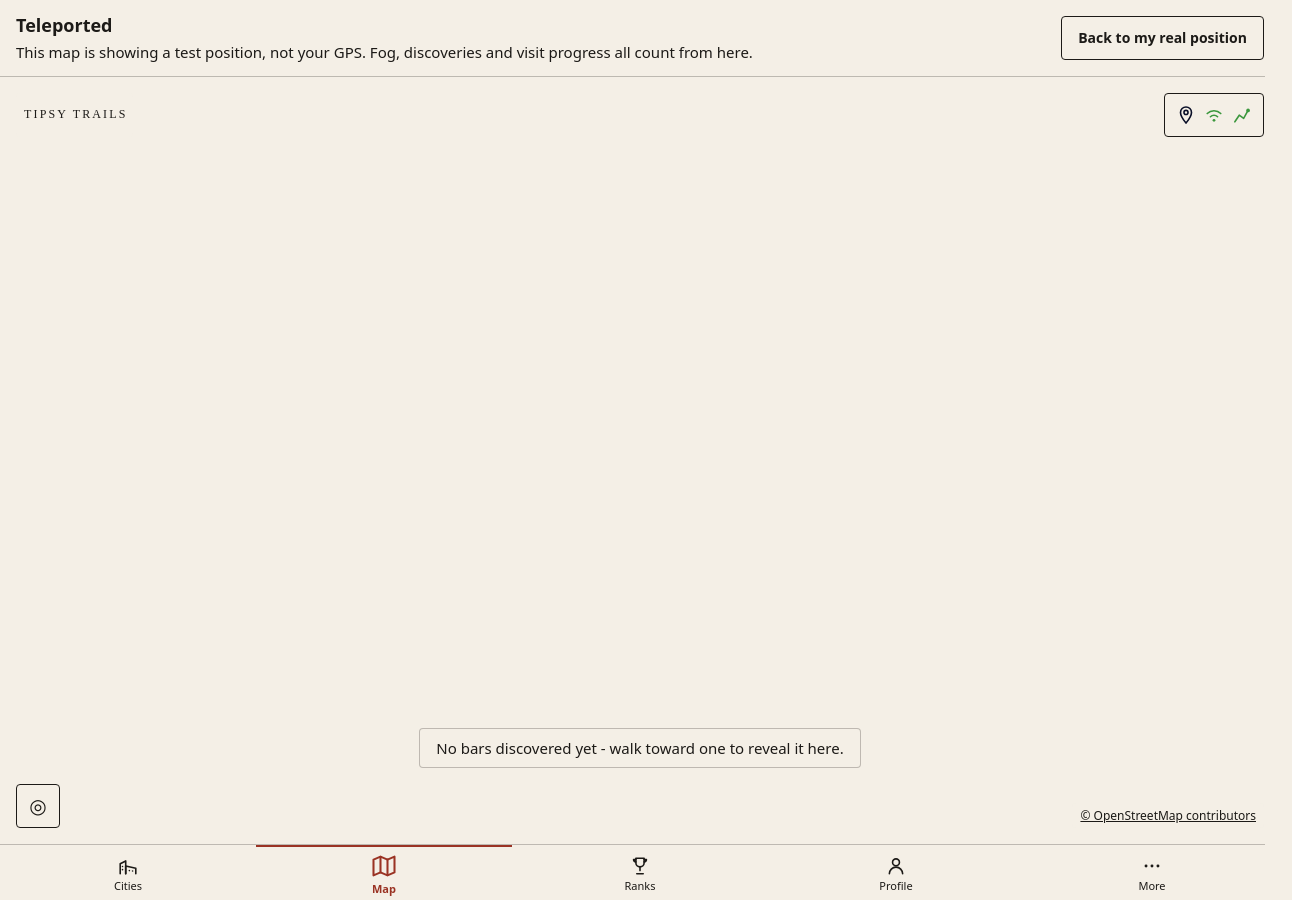
Test: leaving the mode (SPEC.md Section 9.3) › keeps the mode and shows the reason when the clear fails
Click the button with class "map-teleport__leave" at (1163, 38), box x1=1061 y1=16 x2=1264 y2=60
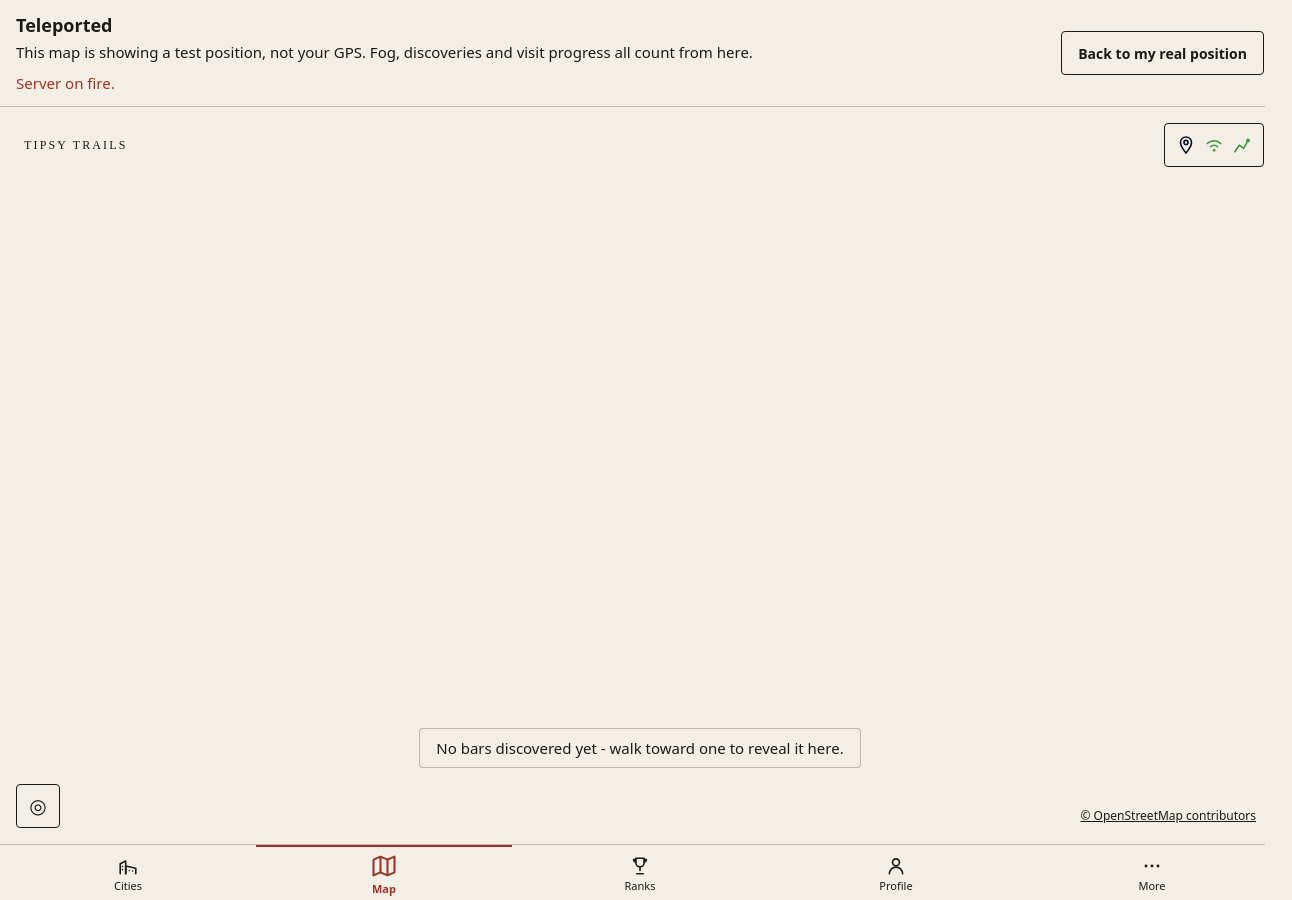
Expected: the message with class "map-teleport" is shown, x1=0 y1=0 x2=1280 y2=107
Now the message with class "map-teleport" shows "Server on fire.", box x1=16 y1=72 x2=115 y2=92
